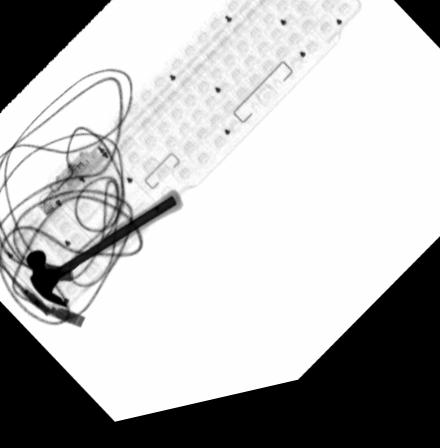Hammer: (25, 195, 184, 311)
